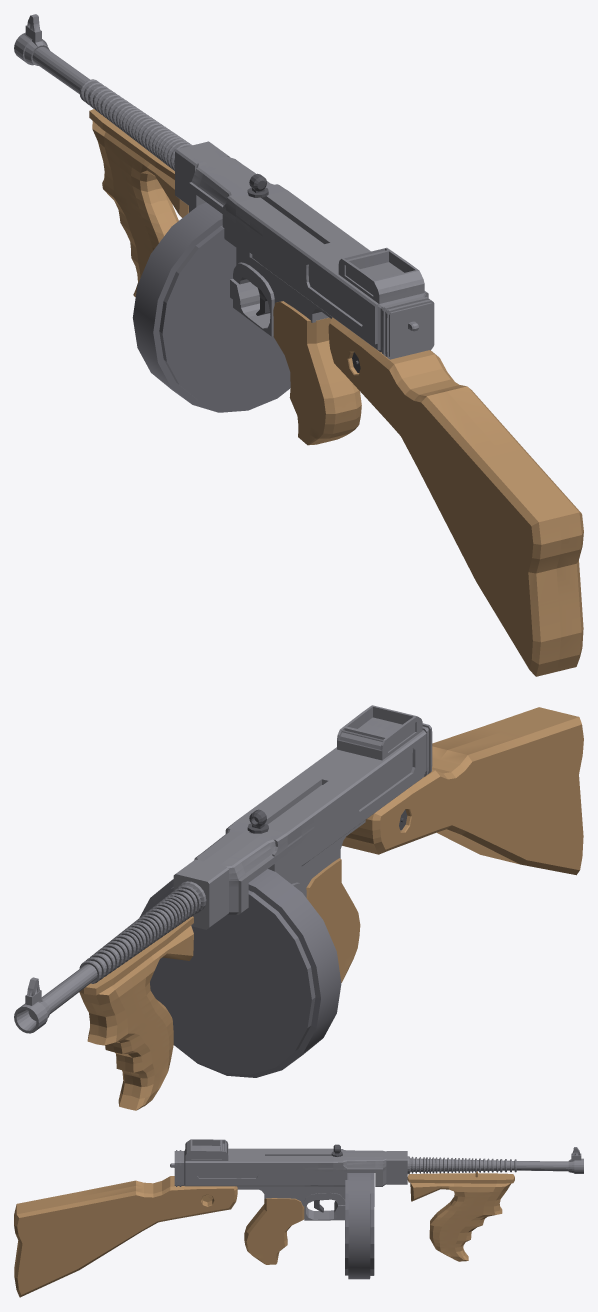
Rendered from tommy_gun.glb.
3 views of the same model, one above another, from view 1: azimuth 30°, elevation 25°; view 2: azimuth 150°, elevation 25°; view 3: azimuth 270°, elevation 25° (orthographic). The views are drawn at different scales.
Visible parts, largest first — view 1: Body, Drum; view 2: Body, Drum; view 3: Body, Drum.
Boxes of the visible parts, x1,y1,x2,y2 form: Body: (14,14,583,676); Drum: (132,202,290,412); Body: (14,705,583,1110); Drum: (139,869,341,1077); Body: (14,1139,583,1297); Drum: (345,1173,374,1279).
Size of the model in its own units: 0.1735 by 0.2429 by 0.85.
